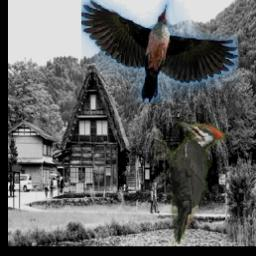Woodpecker: (81, 0, 238, 102), (153, 121, 225, 245)
